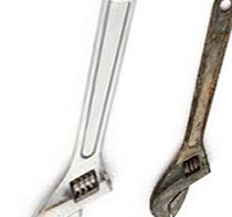wrench: (156, 1, 224, 217)
